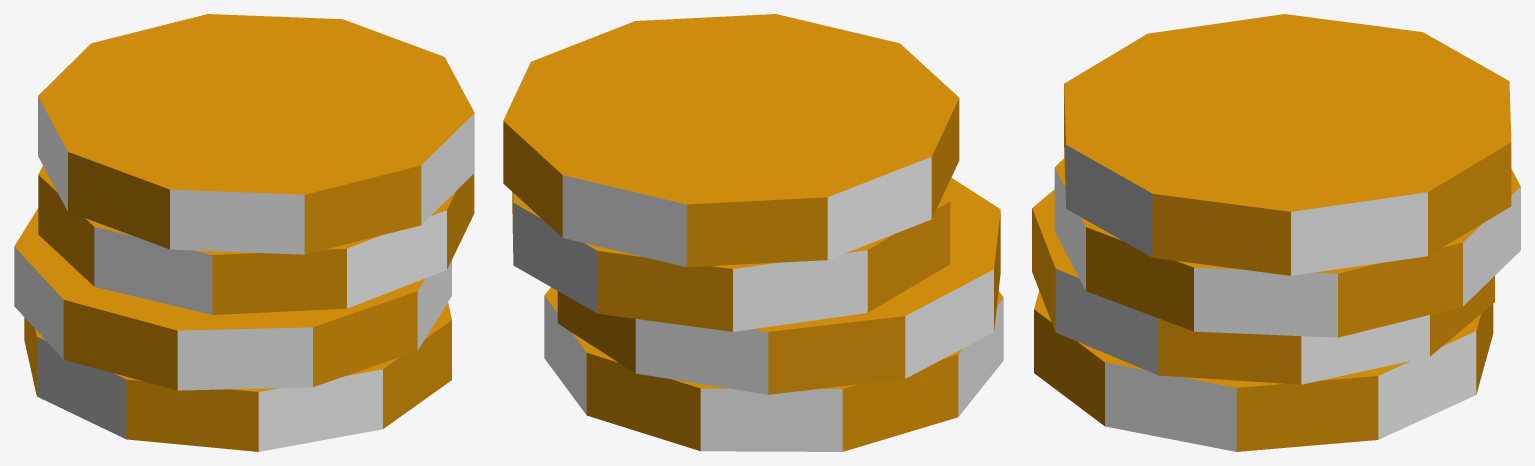
Rendered from prop_chips_yellow.fbx.
3 views of the same model, side by side, from view 1: azimuth 30°, elevation 25°; view 2: azimuth 150°, elevation 25°; view 3: azimuth 270°, elevation 25° (orthographic). The views are drawn at different scales.
Parts seen in each view (by area): view 1: Cylinder.011; view 2: Cylinder.011; view 3: Cylinder.011.
Part boxes in pixels (box(x1,y1,x2,y2)): Cylinder.011: box(14, 14, 474, 451); Cylinder.011: box(503, 14, 1003, 451); Cylinder.011: box(1032, 14, 1520, 451).
Bounding box in the file's own units: 46.79 × 26.05 × 45.05.
